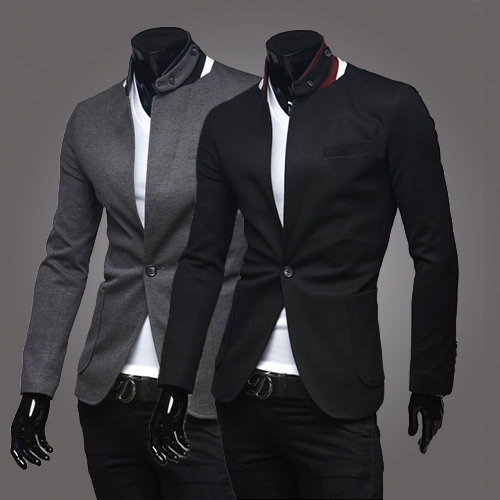F_M_suit jacket: (158, 67, 456, 405), (21, 62, 253, 433)
